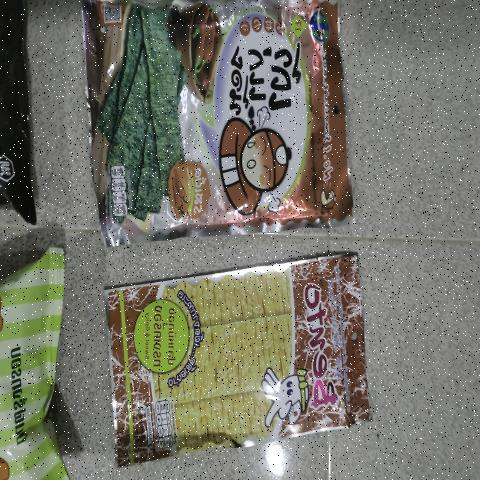bento_red: (116, 253, 358, 467)
taokaenoi: (80, 5, 354, 226)
